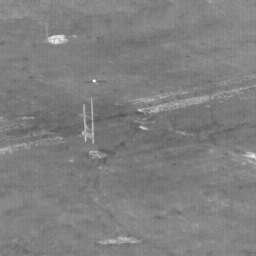aircraft: (94, 80, 96, 82)
